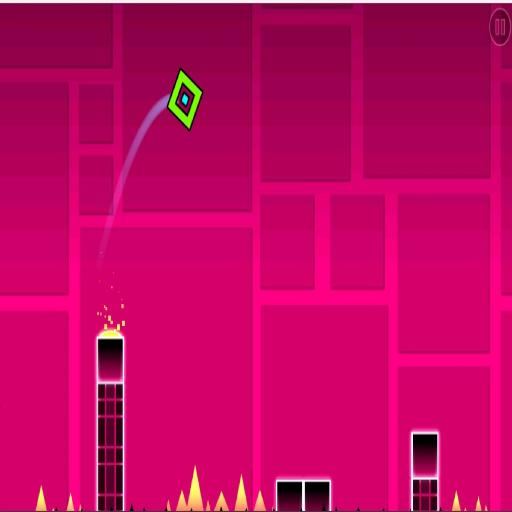block: (96, 337, 128, 512), (410, 431, 440, 512), (275, 476, 332, 512)
player: (167, 68, 202, 131)
spike: (188, 467, 203, 511), (235, 475, 246, 510), (214, 491, 229, 512), (36, 486, 46, 511), (176, 491, 187, 511), (255, 491, 265, 511), (452, 492, 460, 511), (67, 494, 74, 511), (476, 497, 481, 511), (166, 501, 171, 511), (205, 501, 210, 511), (130, 504, 133, 511)
